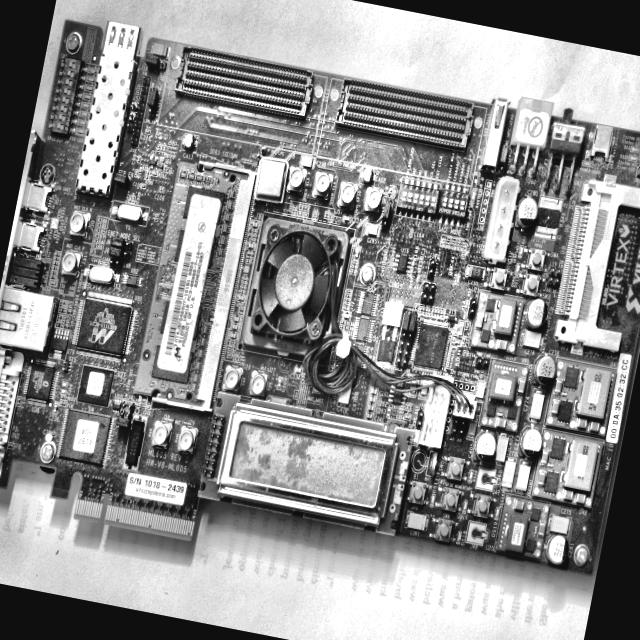PCB: (0, 3, 640, 622)
